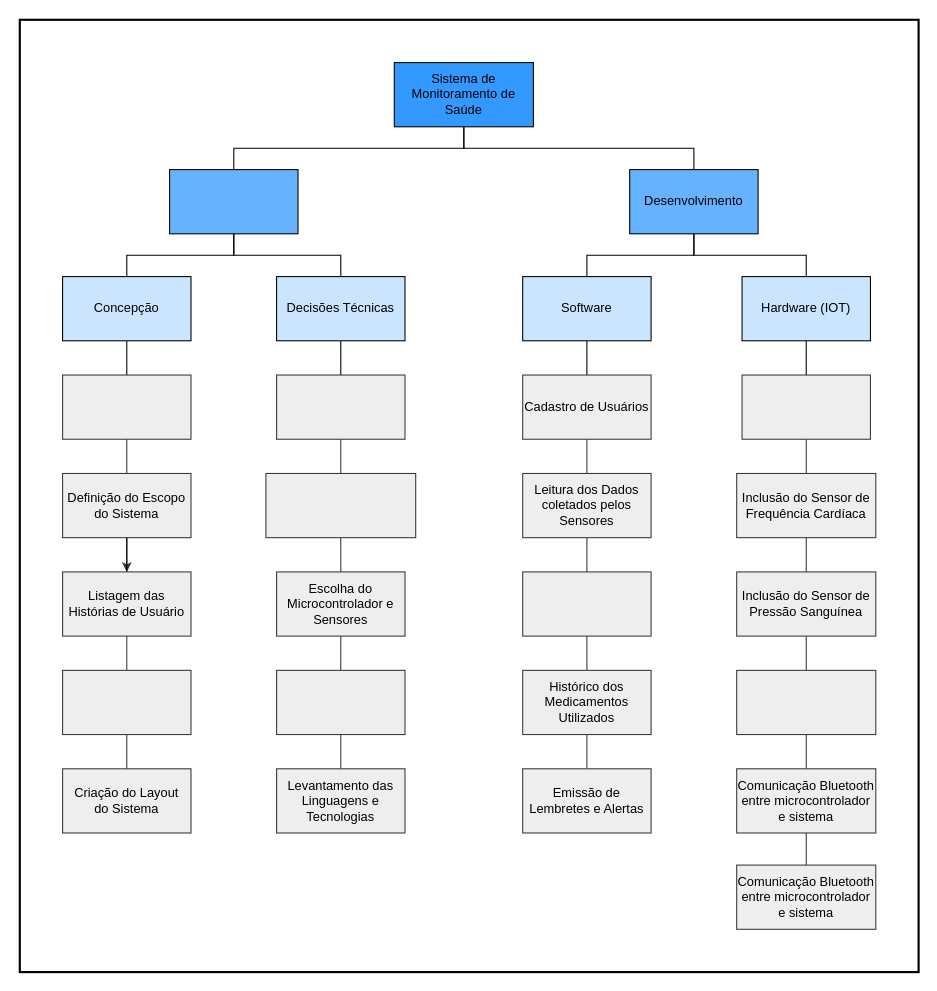
The diagram is 937 pixels wide and 991 high, and some of its shapes have lost their labels. Here are the shapes that lost their labels. From the top down, the box of each, then its label:
(169, 169, 298, 234): Planejamento
(62, 374, 191, 439): Levantamento de Requisitos
(276, 374, 405, 439): Modelagem do Banco de Dados Relacional
(741, 374, 870, 439): Configuração do Microcontrolador
(265, 472, 416, 538): Modelagem do Banco de Dados Não-Relacional
(522, 571, 651, 636): Histórico dos Sinais Vitais Coletados
(62, 669, 191, 735): Criação da Lista de Atividades
(276, 669, 405, 735): Definição do Fluxo de Funcionamento da Aplicação
(736, 669, 876, 735): Inclusão do Sensor de Temperatura Corporal
